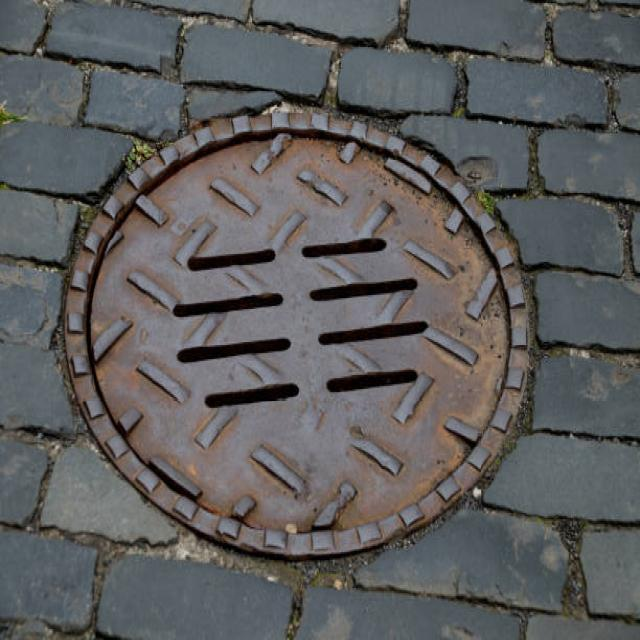Good: (54, 92, 545, 571)
